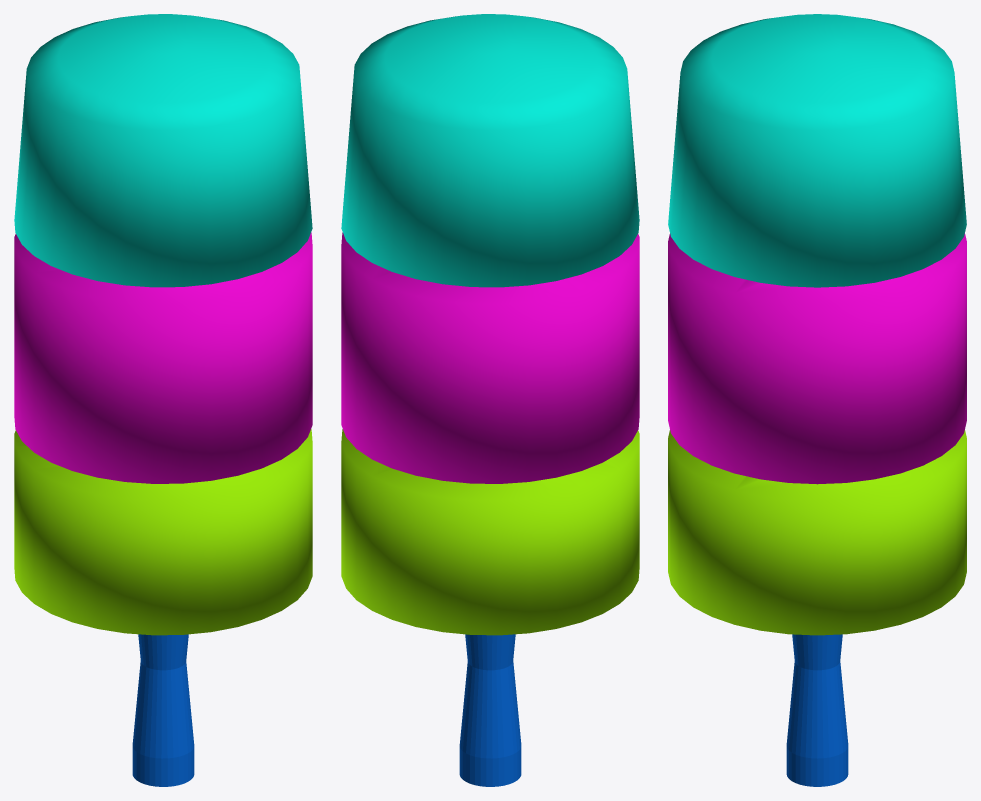
The model's file is plumero.fbx.
3 views of the same model, side by side, from view 1: azimuth 30°, elevation 25°; view 2: azimuth 150°, elevation 25°; view 3: azimuth 270°, elevation 25° (orthographic).
Parts seen in each view (by area): view 1: Cylinder.003; view 2: Cylinder.003; view 3: Cylinder.003.
Boxes of the visible parts, bbox=[...] form: Cylinder.003: bbox=[14, 14, 312, 786]; Cylinder.003: bbox=[341, 14, 639, 786]; Cylinder.003: bbox=[668, 14, 966, 786].
Size of the model in its own units: 966 by 2601 by 966.
